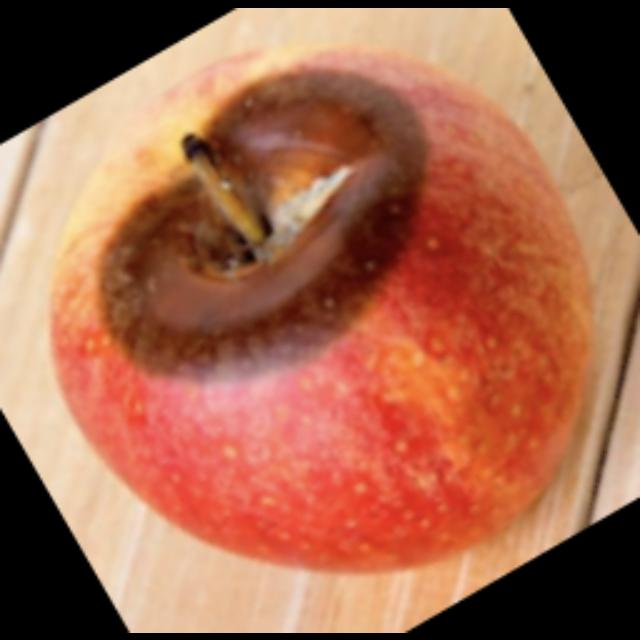Apel Tidak Segar: (18, 23, 616, 609)
